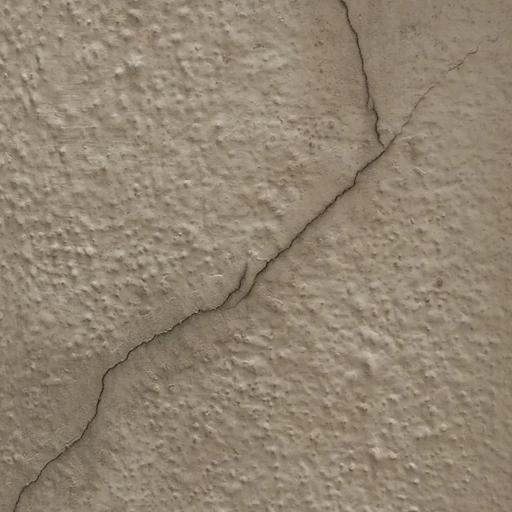minor_crack: (0, 1, 512, 512)
